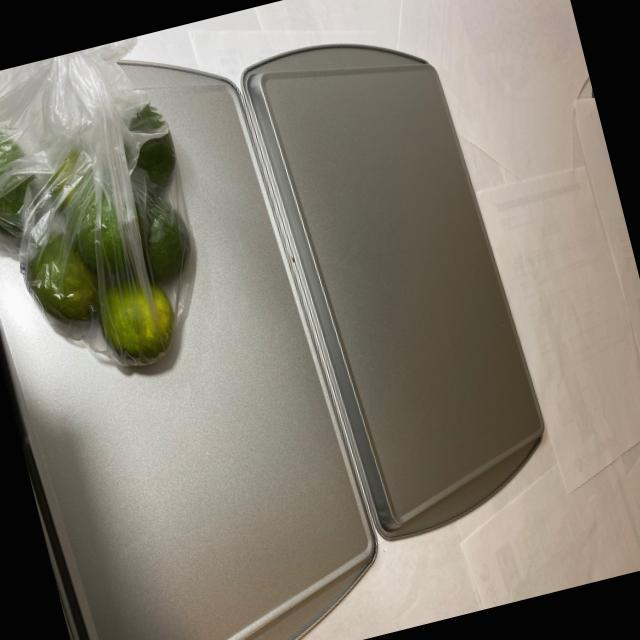lemon: (0, 54, 219, 394)
